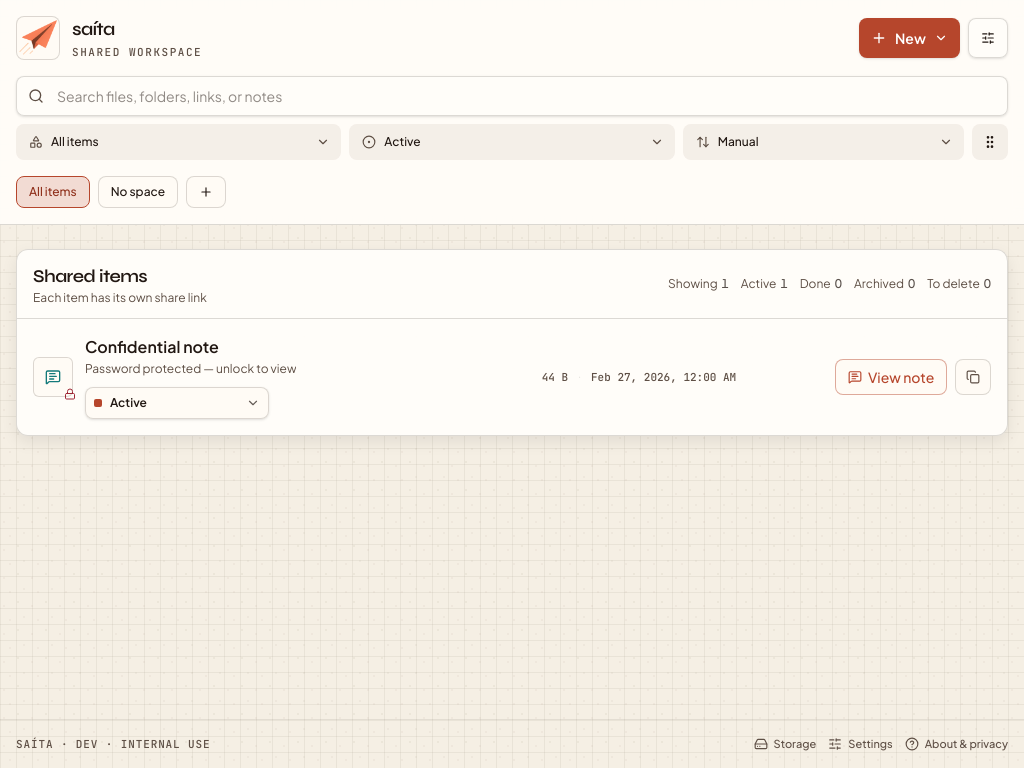
Scenario: unlocks a protected note before loading preview
The width and height of the screenshot is (1024, 768).
Expected: the text "Confidential note" is shown, top-left (85, 336), bottom-right (219, 357)
Expected: the text "Password protected — unlock to view" is shown, top-left (85, 361), bottom-right (296, 377)
Click the button "View note" at (891, 377), box top-left (835, 359), bottom-right (947, 395)
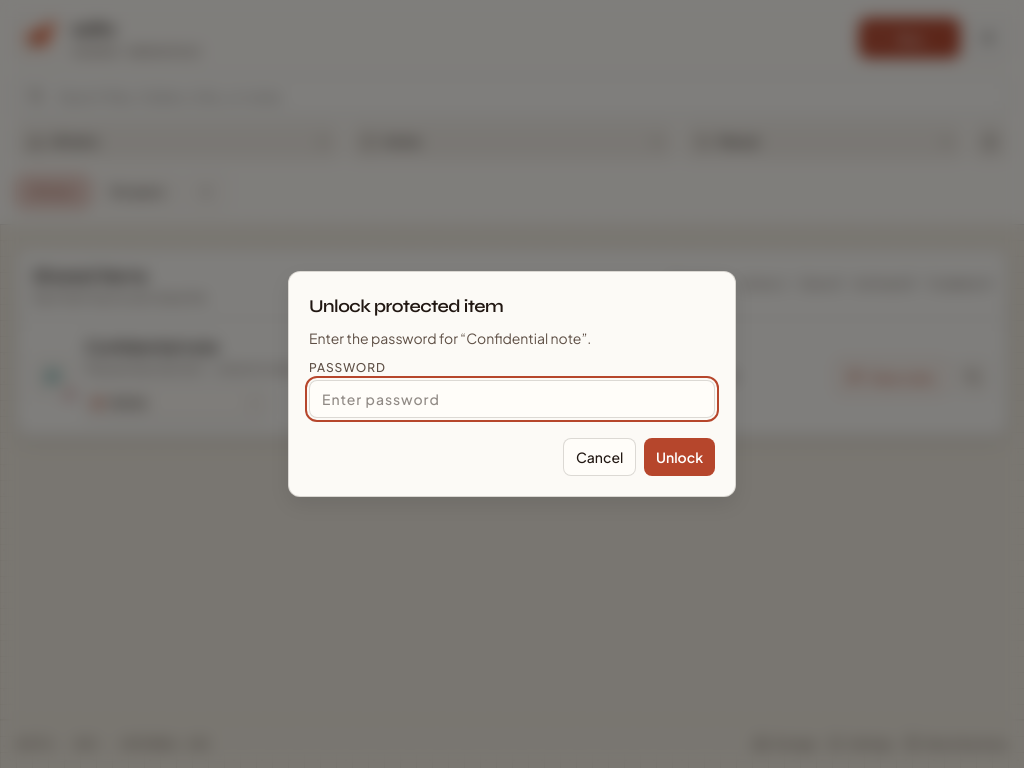
Type "safepass1" into the password field with placeholder "Enter password" at (512, 399), box top-left (309, 380), bottom-right (715, 418)
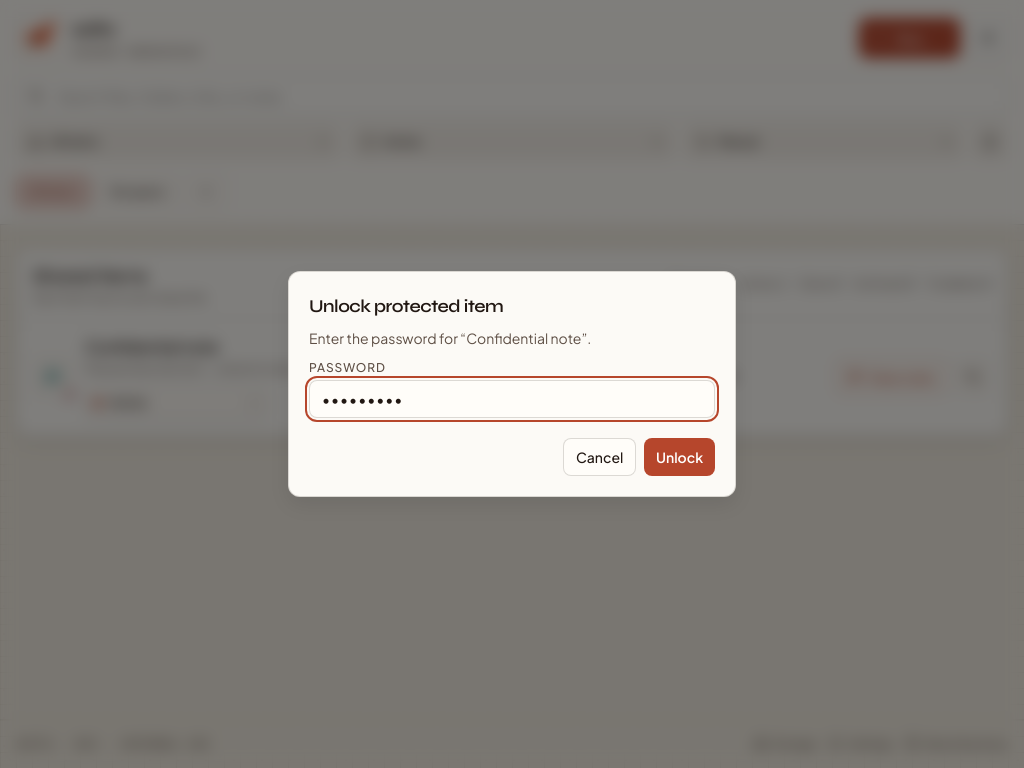
Click the button "Unlock" at (679, 457), box top-left (644, 438), bottom-right (715, 476)
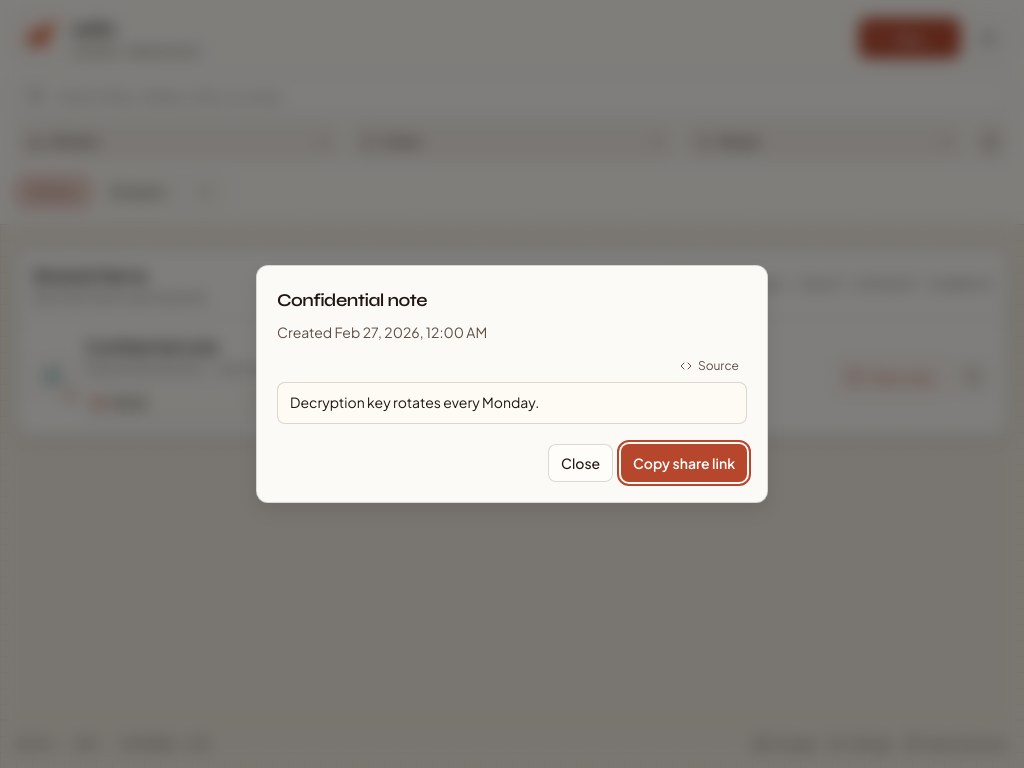
Expected: the text "Decryption key rotates every Monday." is shown, top-left (290, 393), bottom-right (539, 411)
